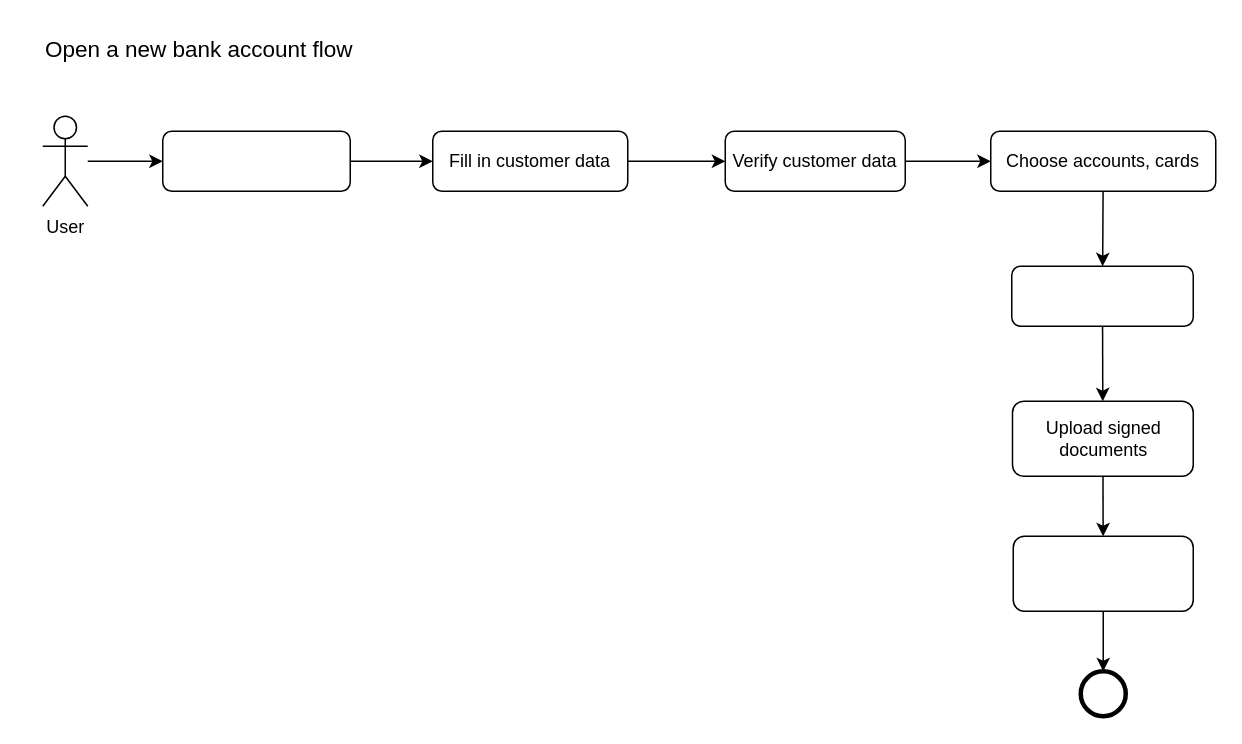
Some shapes in this 1242 by 744 pixel diagram are drawn without their labels. Here are the shapes that lost their labels. From the top down, the centre of each, then its label:
At (x=255, y=160): "Upload id document".
At (x=1101, y=295): "Generate documents".
At (x=1102, y=573): "Add new account in bank system".
